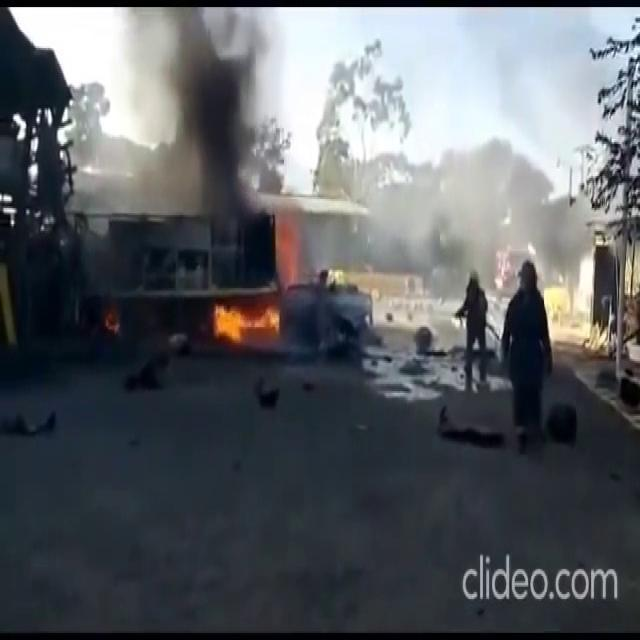Fire: (193, 304, 287, 354)
Smoke: (128, 0, 285, 277)
